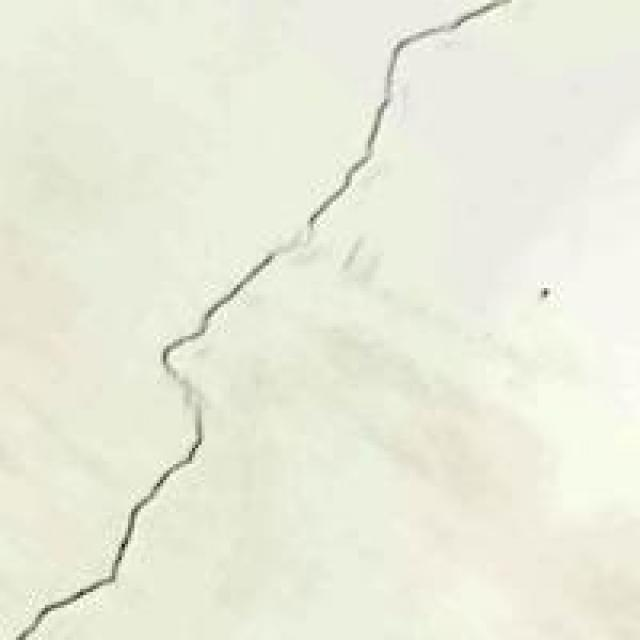crack: (3, 0, 515, 637)
